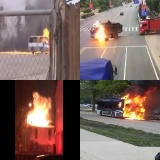fire: (25, 91, 54, 130), (118, 90, 150, 120), (93, 22, 107, 45), (1, 50, 47, 54), (42, 28, 49, 37)
